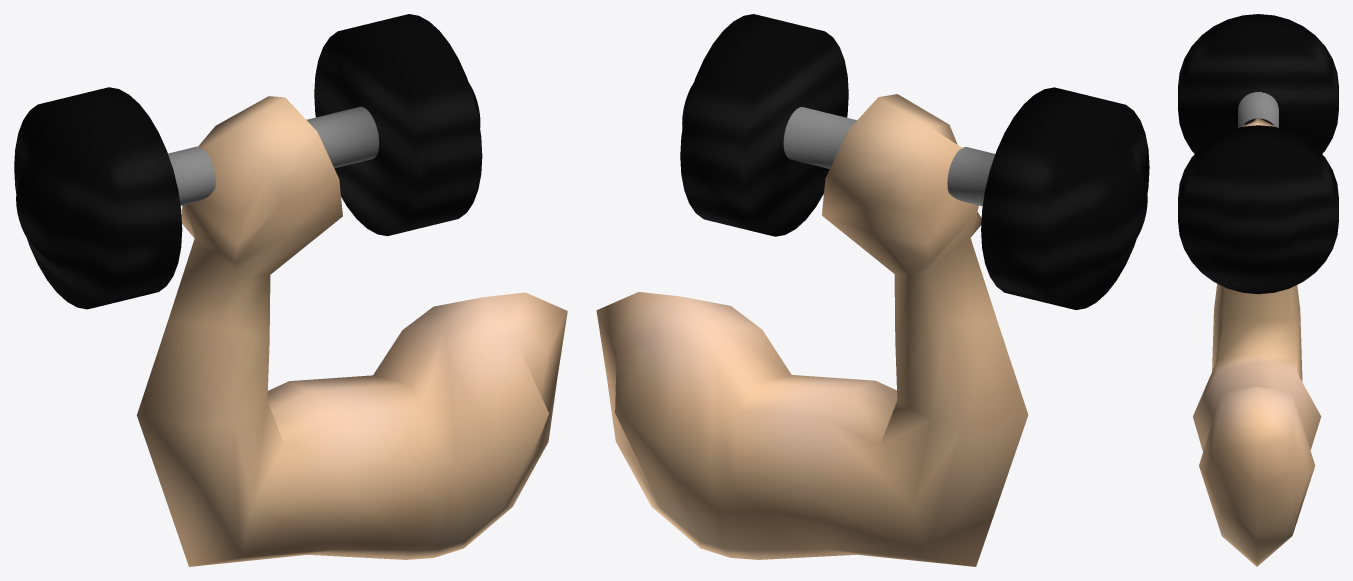
The model's file is POWERUP_STRONG.fbx.
3 views of the same model, side by side, from view 1: azimuth 30°, elevation 25°; view 2: azimuth 150°, elevation 25°; view 3: azimuth 270°, elevation 25° (orthographic). The views are drawn at different scales.
Visible parts, largest first — view 1: Strong; view 2: Strong; view 3: Strong.
Boxes of the visible parts, <box> form: Strong: <box>14,14,567,566</box>; Strong: <box>596,14,1149,566</box>; Strong: <box>1178,14,1338,566</box>.
Bounding box in the file's own units: 405 × 391 × 140.
